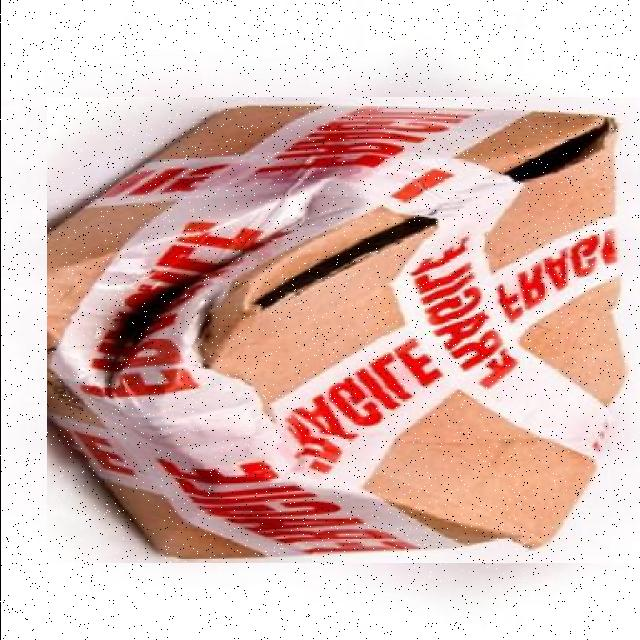defect: (46, 97, 639, 563)
